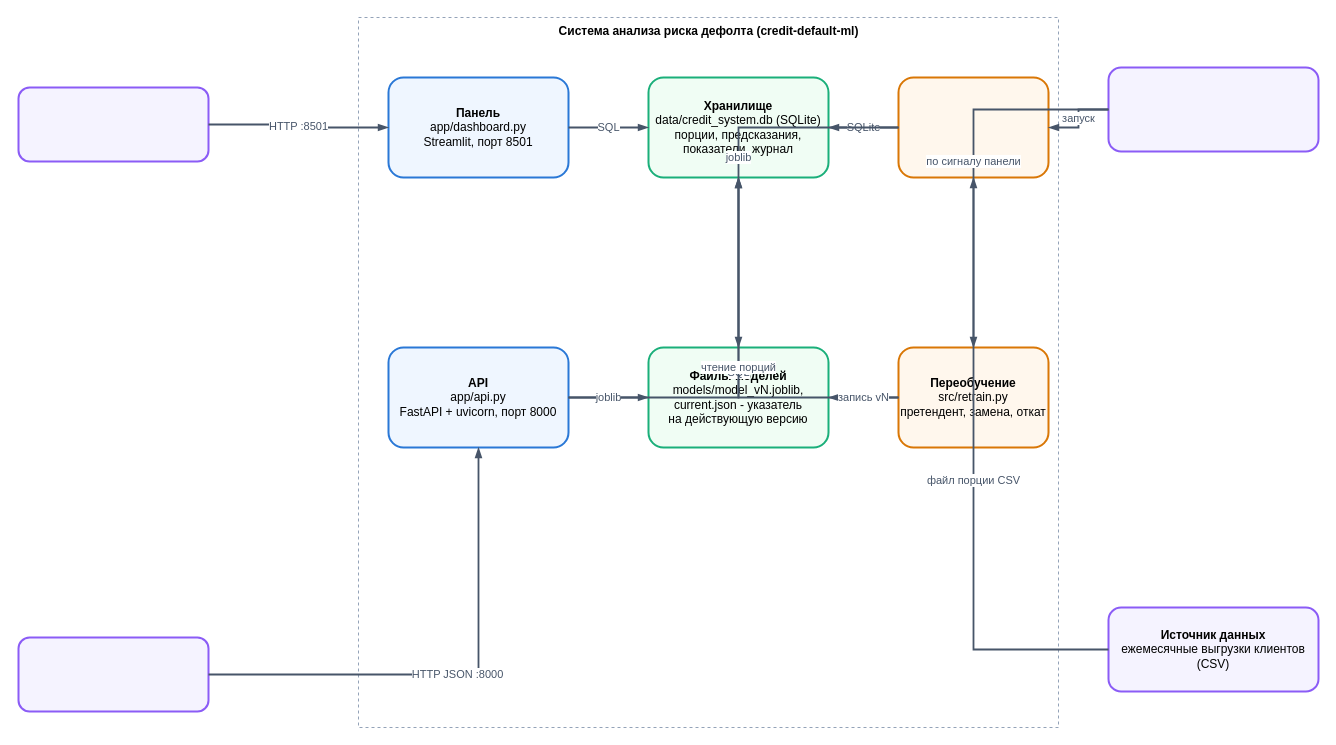
The diagram is 1336 pixels wide and 745 high, and some of its shapes have lost their labels. The centre of each missing label's shape, as x and y in pixels:
"Внешняя система запрашивает прогнозы" belongs at (x=113, y=674).
"Риск-аналитик просматривает панель" belongs at (x=113, y=124).
"Специалист по ML запускает обработку порций, переобучение и откат версий" belongs at (x=1213, y=109).
"Сценарий src/process_batch.py проверка, признаки, предсказание, показатели" belongs at (x=973, y=127).
